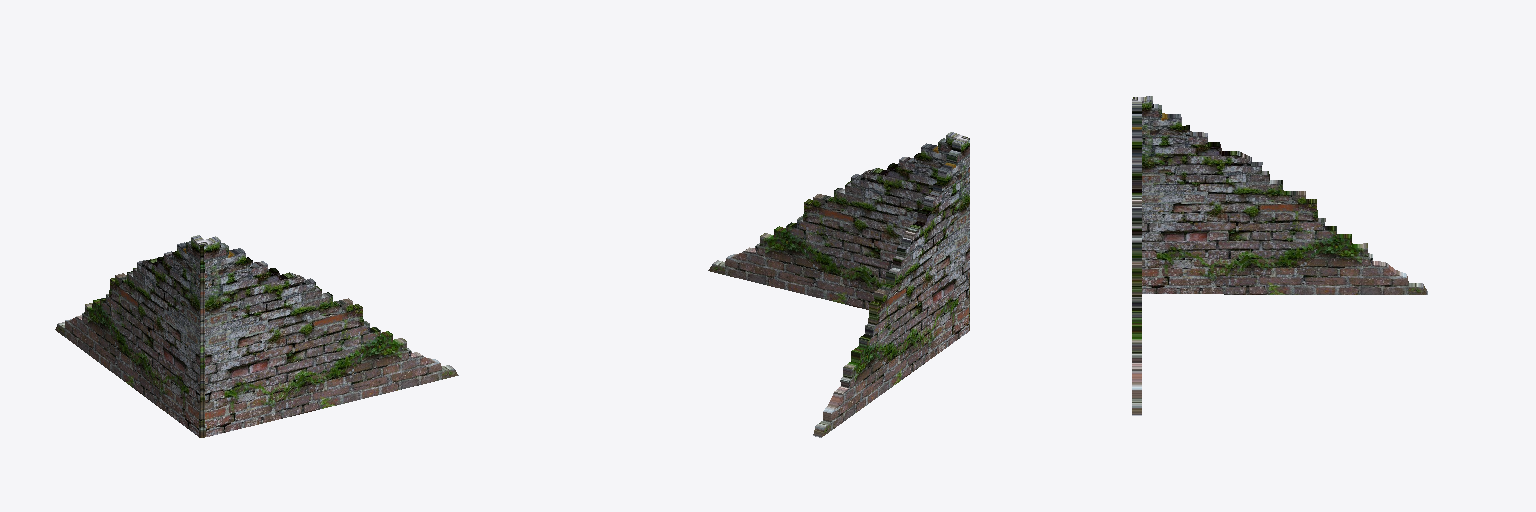
3 renders of one model, left to right at view 1: azimuth 30°, elevation 25°; view 2: azimuth 150°, elevation 25°; view 3: azimuth 270°, elevation 25°, orthographic.
Visible parts, largest first — view 1: Esquina_Rota_Planta; view 2: Esquina_Rota_Planta; view 3: Esquina_Rota_Planta.
Part boxes in pixels (x1,y1,x2,y2): Esquina_Rota_Planta: (55,235,458,437); Esquina_Rota_Planta: (708,132,969,437); Esquina_Rota_Planta: (1132,96,1427,415).
Size of the model in its own units: 6.85 by 4.93 by 6.8.
Materials: 1 (1 with a texture image).